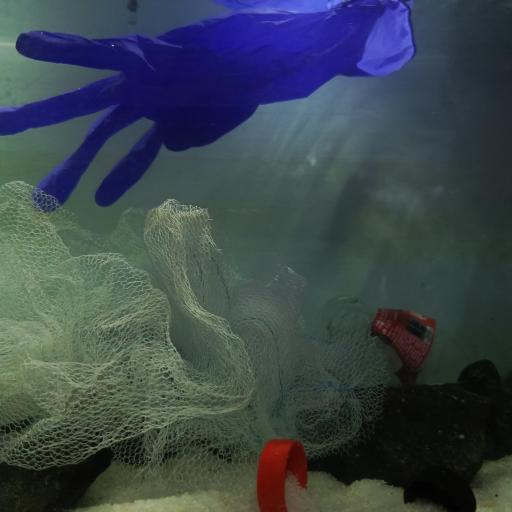bottle_cap: (259, 438, 307, 512), (404, 464, 477, 512)
glove: (0, 0, 415, 212)
net: (0, 178, 387, 491)
plastic_bottle: (320, 294, 470, 388)
